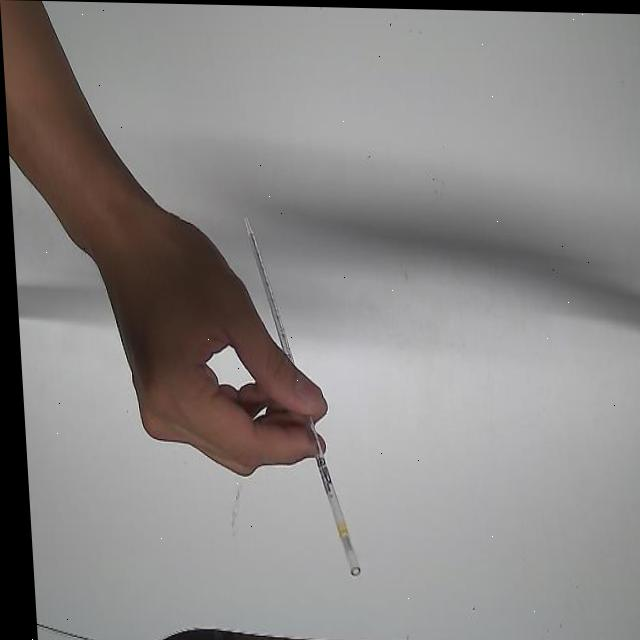Serelogical Pipet 1 mL: (233, 211, 360, 577)
